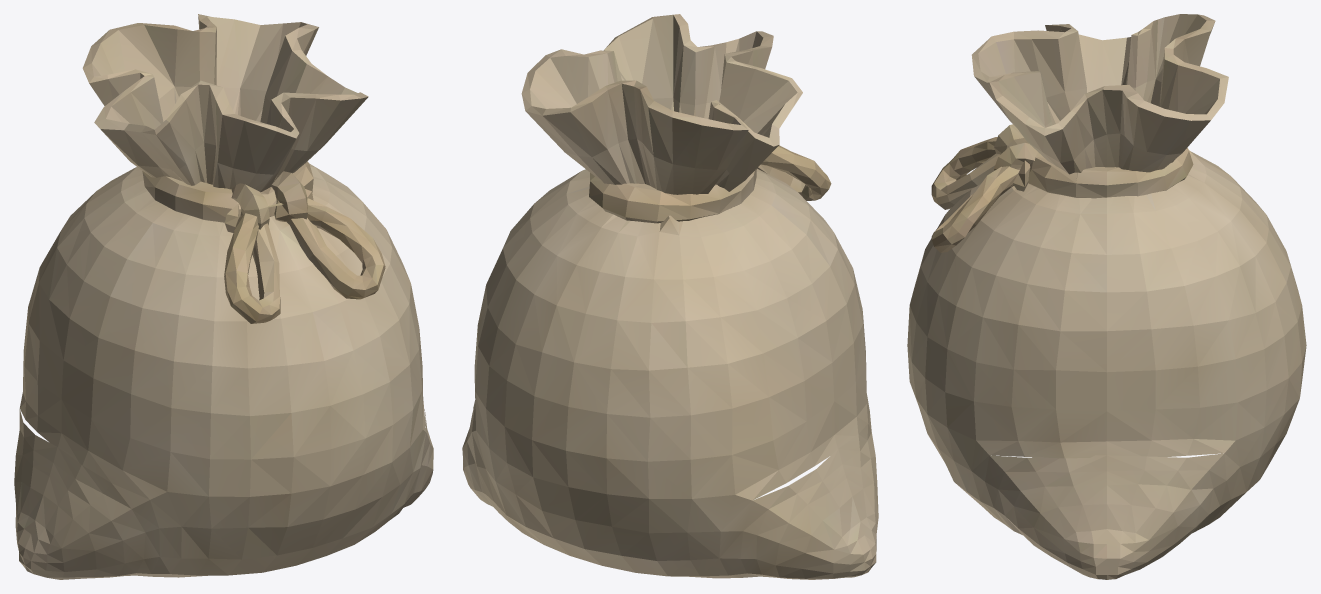
File: sack.glb
The picture shows the model from 3 angles, left to right: view 1: azimuth 30°, elevation 25°; view 2: azimuth 150°, elevation 25°; view 3: azimuth 270°, elevation 25°; orthographic projection. The views are drawn at different scales.
Parts seen in each view (by area): view 1: geometry_0; view 2: geometry_0; view 3: geometry_0.
Boxes of the visible parts, x1,y1,x2,y2 form: geometry_0: (14,14,433,579); geometry_0: (462,14,878,579); geometry_0: (907,14,1306,579).
Size of the model in its own units: 0.0972 by 0.1113 by 0.0879.
